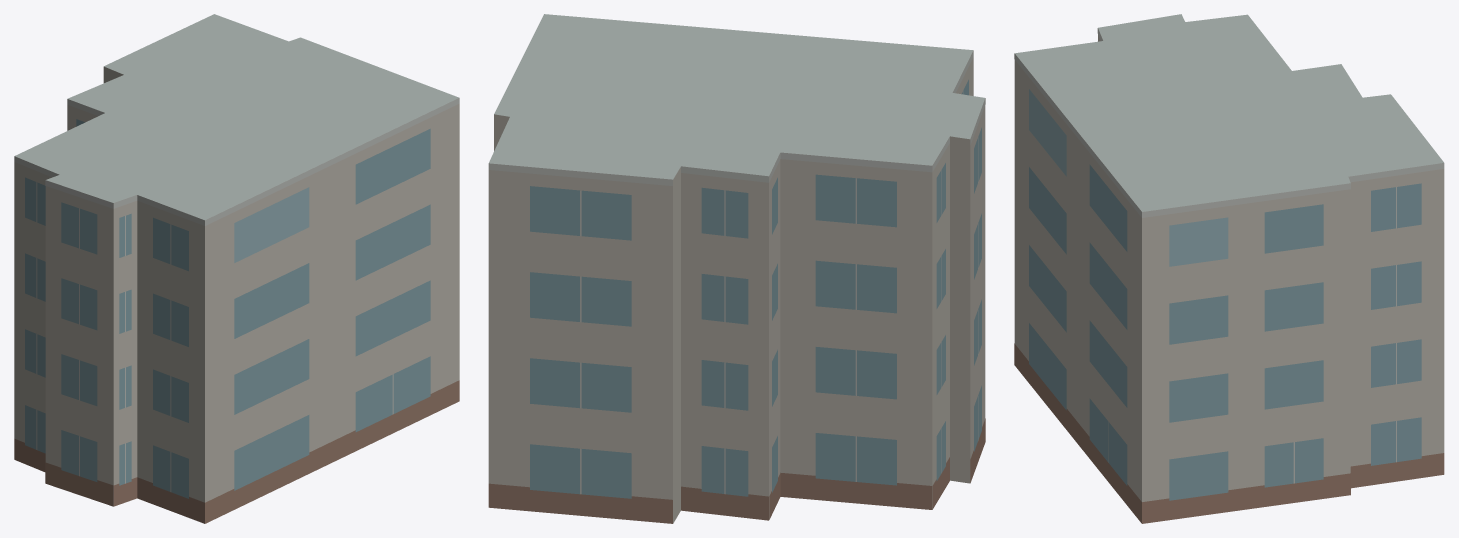
Rendered from survey-upis-32940615.glb.
3 renders of one model, left to right at view 1: azimuth 30°, elevation 25°; view 2: azimuth 150°, elevation 25°; view 3: azimuth 270°, elevation 25°, orthographic. The views are drawn at different scales.
Visible parts, largest first — view 1: survey-upis-32940615.tmp; view 2: survey-upis-32940615.tmp; view 3: survey-upis-32940615.tmp.
Boxes of the visible parts, bbox=[...] form: survey-upis-32940615.tmp: bbox=[14, 14, 459, 523]; survey-upis-32940615.tmp: bbox=[488, 14, 985, 523]; survey-upis-32940615.tmp: bbox=[1014, 14, 1444, 523].
Size of the model in its own units: 17.44 by 12.8 by 16.
